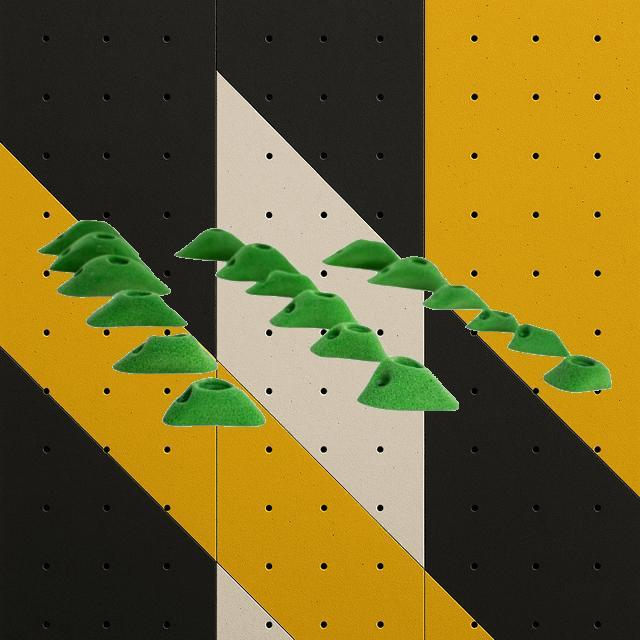Pinch: (356, 354, 459, 412), (163, 379, 265, 426), (56, 256, 168, 298), (112, 332, 218, 374), (48, 232, 142, 272), (37, 220, 139, 256), (87, 291, 187, 327), (269, 291, 357, 329), (216, 244, 304, 282), (310, 324, 388, 361), (367, 258, 449, 292), (542, 354, 610, 392), (174, 228, 246, 262), (322, 240, 400, 270), (246, 270, 318, 298), (508, 324, 568, 356), (424, 284, 491, 310), (466, 308, 518, 332)
